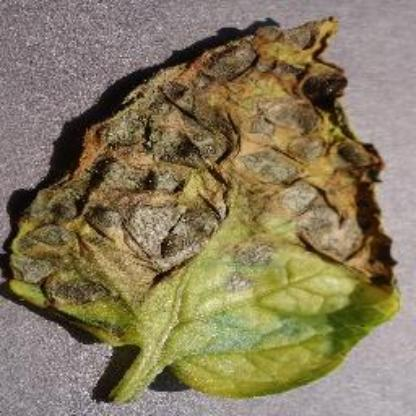Early-Blight: (2, 3, 416, 411)
